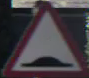Speed Breaker ahead: (5, 10, 77, 70)
